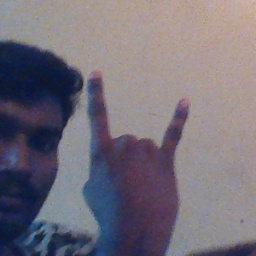V: (77, 67, 195, 245)
